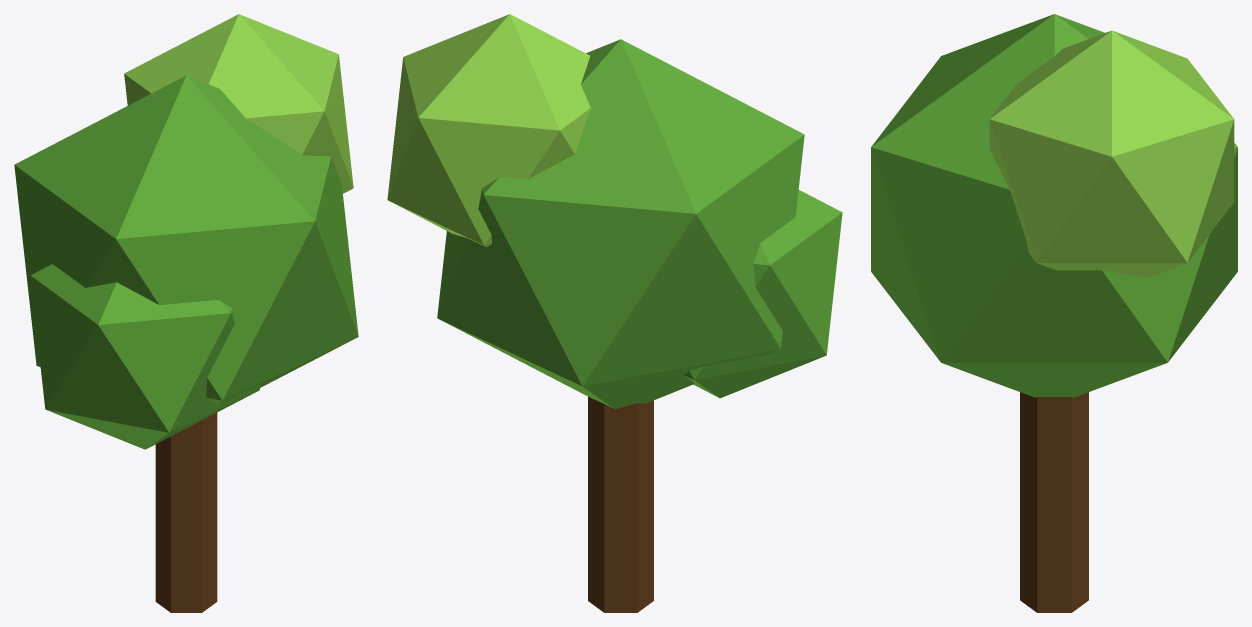
File: sns_tree_round.glb
The picture shows the model from 3 angles, left to right: view 1: azimuth 30°, elevation 25°; view 2: azimuth 150°, elevation 25°; view 3: azimuth 270°, elevation 25°; orthographic projection. The views are drawn at different scales.
Parts seen in each view (by area): view 1: sns_tree_round; view 2: sns_tree_round; view 3: sns_tree_round.
Boxes of the visible parts, box(x1,y1,x2,y2) form: sns_tree_round: box(14, 14, 358, 612); sns_tree_round: box(387, 14, 842, 612); sns_tree_round: box(871, 14, 1237, 612).
Size of the model in its own units: 1.54 by 2.35 by 1.28.
